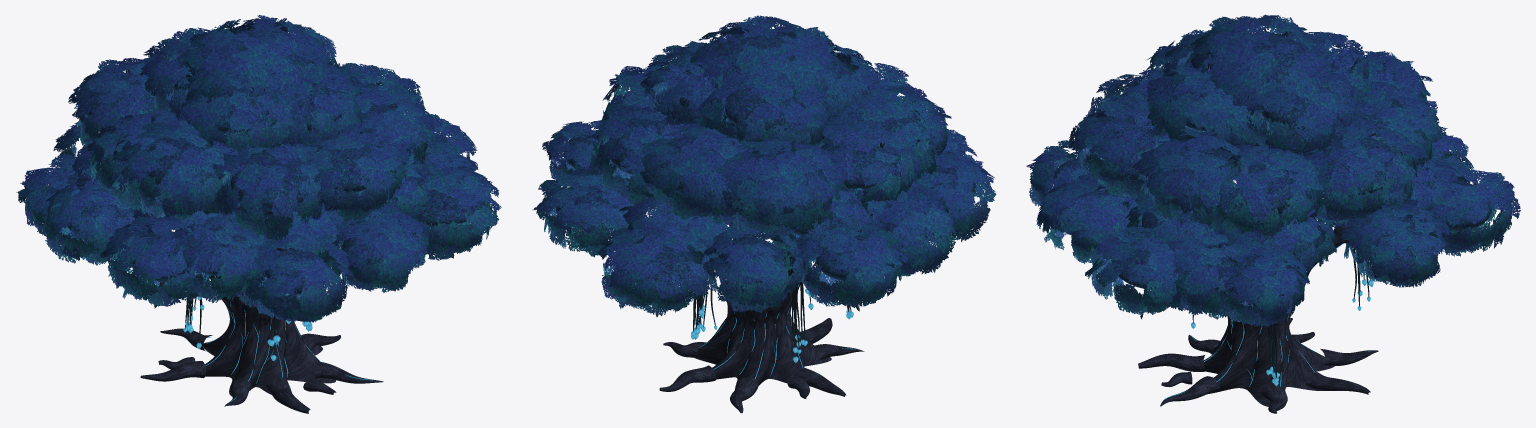
The model's file is veil_tree.glb.
3 views of the same model, side by side, from view 1: azimuth 30°, elevation 25°; view 2: azimuth 150°, elevation 25°; view 3: azimuth 270°, elevation 25° (orthographic).
Parts seen in each view (by area): view 1: Leaves, Trunk, Glow_Veins, Limbs, Strands; view 2: Leaves, Trunk, Strands, Limbs, Glow_Pods; view 3: Leaves, Trunk, Strands.
Boxes of the visible parts, left/top/right/bottom form: Leaves: left=16, top=15, right=501, bottom=322; Trunk: left=140, top=297, right=383, bottom=413; Glow_Veins: left=171, top=275, right=372, bottom=401; Limbs: left=103, top=82, right=454, bottom=325; Strands: left=185, top=233, right=415, bottom=354; Leaves: left=532, top=15, right=996, bottom=315; Trunk: left=659, top=282, right=864, bottom=413; Strands: left=693, top=261, right=851, bottom=356; Limbs: left=656, top=84, right=951, bottom=325; Glow_Pods: left=691, top=289, right=853, bottom=362; Leaves: left=1026, top=14, right=1520, bottom=327; Trunk: left=1138, top=296, right=1378, bottom=413; Strands: left=1192, top=247, right=1370, bottom=377.
Bounding box in the file's own units: 104 × 82.59 × 106.
3 materials, 3 textured.
